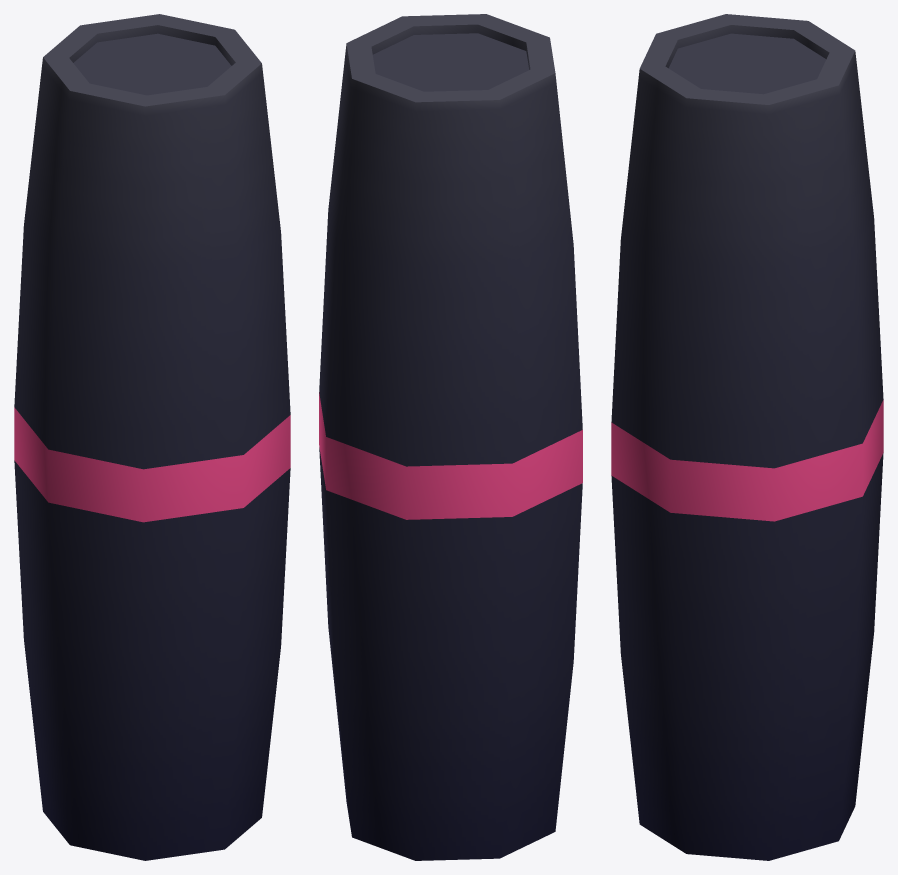
The model's file is Eyeliner_01.fbx.
The picture shows the model from 3 angles, left to right: view 1: azimuth 30°, elevation 25°; view 2: azimuth 150°, elevation 25°; view 3: azimuth 270°, elevation 25°; orthographic projection.
Parts seen in each view (by area): view 1: Eyeliner_01; view 2: Eyeliner_01; view 3: Eyeliner_01.
Boxes of the visible parts, bbox=[...] form: Eyeliner_01: bbox=[14, 14, 290, 860]; Eyeliner_01: bbox=[319, 14, 582, 860]; Eyeliner_01: bbox=[611, 14, 883, 860].
Bounding box in the file's own units: 0.0241 × 0.0738 × 0.0241.
Materials: 1 (1 with a texture image).
